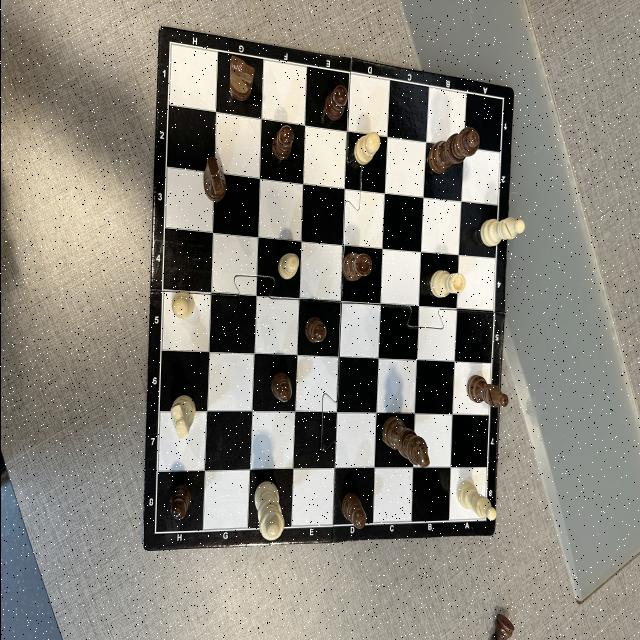Black-Bishop: (465, 374, 508, 408)
Black-King: (381, 416, 429, 468)
Black-Knight: (228, 55, 254, 103), (202, 156, 226, 203)
Black-Pawn: (340, 492, 366, 529), (323, 85, 347, 121), (168, 484, 191, 520), (270, 124, 292, 160), (270, 372, 292, 404), (304, 316, 326, 344)
Black-Queen: (426, 126, 478, 176)
Black-Rook: (341, 252, 371, 282)
White-Bishop: (456, 480, 496, 521), (479, 218, 524, 248)
White-Knight: (169, 394, 195, 440)
White-Pawn: (352, 132, 380, 166), (170, 290, 194, 320), (276, 252, 298, 280)
White-Queen: (253, 481, 284, 541)
White-Rook: (428, 270, 466, 299)
